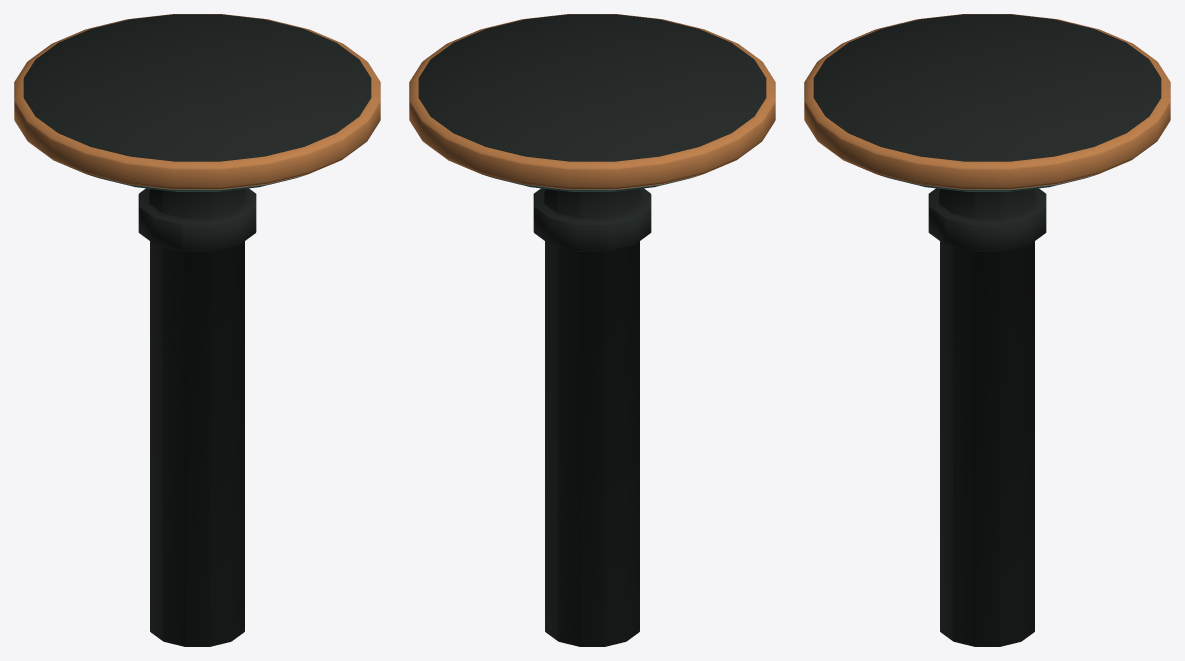
File: lift_platform_deck.glb
3 views of the same model, side by side, from view 1: azimuth 30°, elevation 25°; view 2: azimuth 150°, elevation 25°; view 3: azimuth 270°, elevation 25° (orthographic).
Parts seen in each view (by area): view 1: Column, Plate; view 2: Column, Plate; view 3: Column, Plate.
Boxes of the visible parts, x1,y1,x2,y2 form: Column: (23, 14, 371, 646); Plate: (14, 14, 380, 191); Column: (418, 14, 766, 646); Plate: (409, 14, 775, 191); Column: (813, 14, 1161, 646); Plate: (804, 14, 1170, 191).
Bounding box in the file's own units: 8.92 × 14.5 × 8.92.
